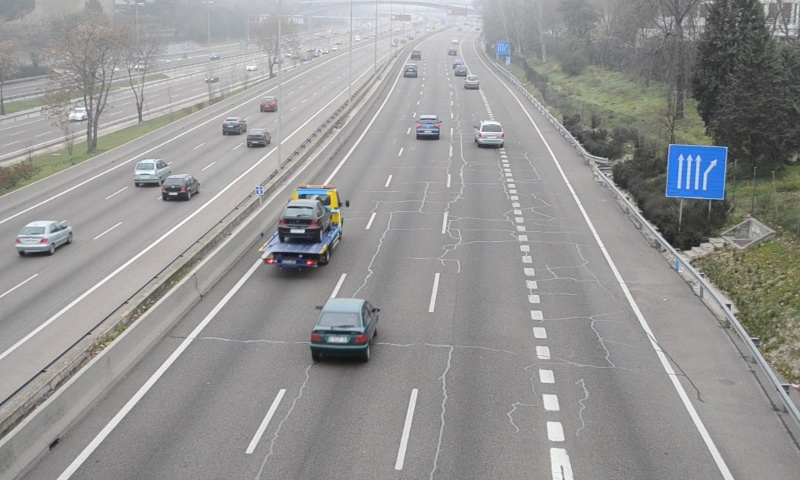car: (310, 298, 378, 356), (475, 120, 505, 148), (415, 114, 440, 137), (463, 74, 479, 90), (402, 63, 418, 78)
small-truck: (258, 186, 342, 268)
